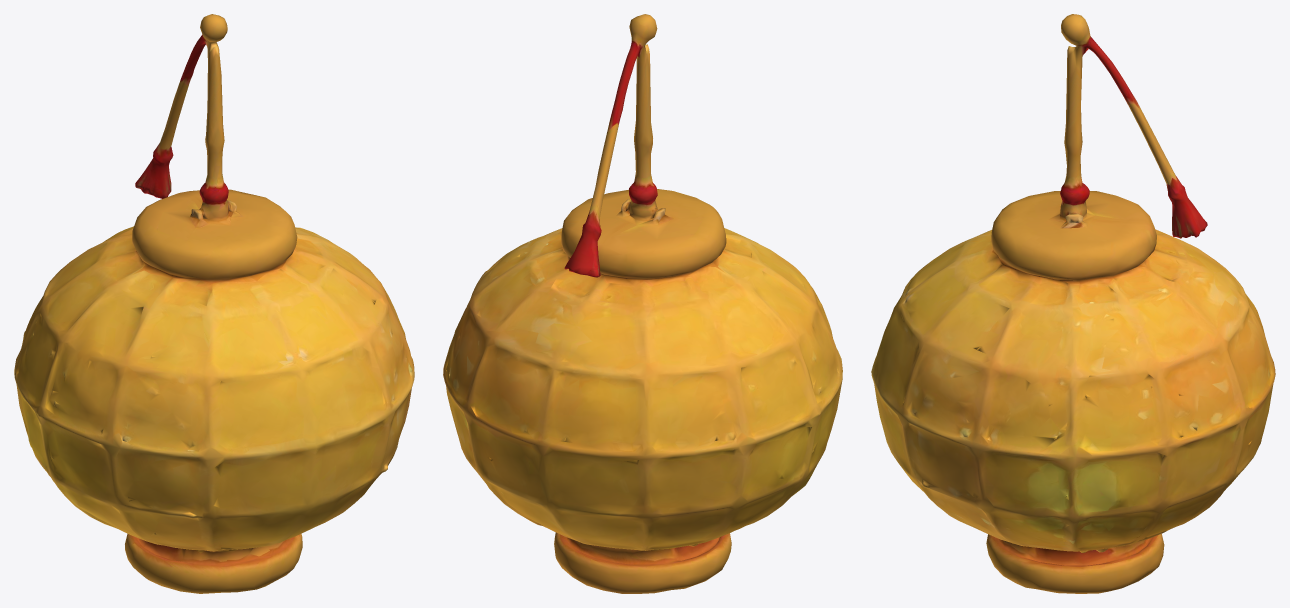
Rendered from keepsake-two-lanterns.glb.
The picture shows the model from 3 angles, left to right: view 1: azimuth 30°, elevation 25°; view 2: azimuth 150°, elevation 25°; view 3: azimuth 270°, elevation 25°; orthographic projection.
Visible parts, largest first — view 1: tripo_node_d329adc6-a083-44af-88d5-3d4ad4df472e; view 2: tripo_node_d329adc6-a083-44af-88d5-3d4ad4df472e; view 3: tripo_node_d329adc6-a083-44af-88d5-3d4ad4df472e.
Boxes of the visible parts, <box> form: tripo_node_d329adc6-a083-44af-88d5-3d4ad4df472e: <box>14,14,414,593</box>; tripo_node_d329adc6-a083-44af-88d5-3d4ad4df472e: <box>443,14,842,593</box>; tripo_node_d329adc6-a083-44af-88d5-3d4ad4df472e: <box>871,14,1275,593</box>.
Size of the model in its own units: 0.653 by 0.9718 by 0.6524.
1 material, 1 textured.
